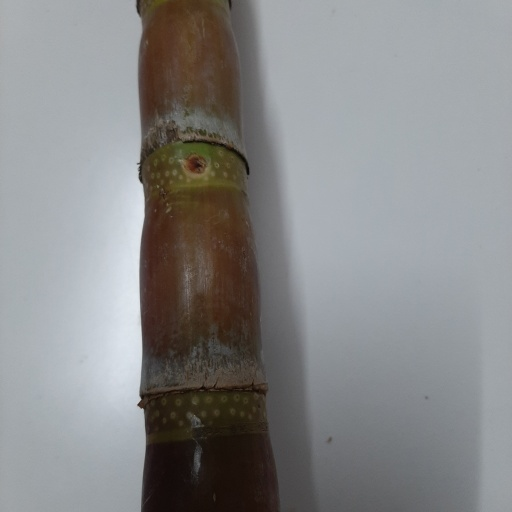Damage_Bud: (183, 152, 212, 177)
